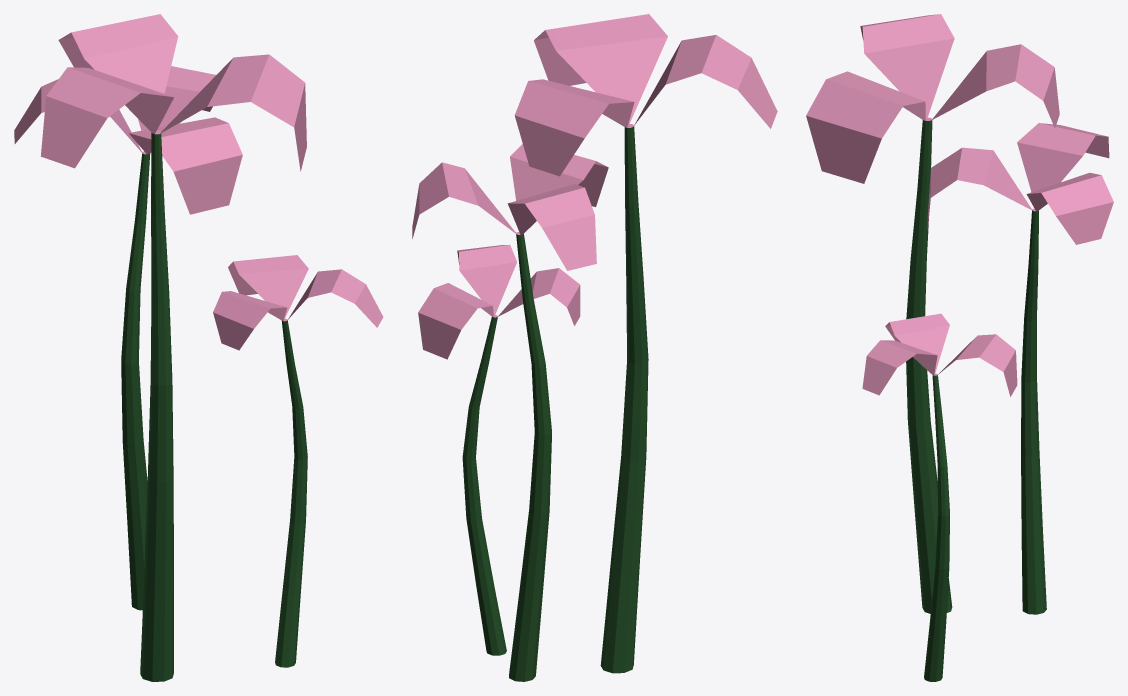
File: Plant_2a.fbx
3 renders of one model, left to right at view 1: azimuth 30°, elevation 25°; view 2: azimuth 150°, elevation 25°; view 3: azimuth 270°, elevation 25°, orthographic. The views are drawn at different scales.
Parts seen in each view (by area): view 1: Circle.002; view 2: Circle.002; view 3: Circle.002.
Boxes of the visible parts, x1,y1,x2,y2 form: Circle.002: [14, 14, 383, 681]; Circle.002: [412, 14, 777, 681]; Circle.002: [806, 14, 1113, 681].
Size of the model in its own units: 79.42 by 148 by 72.38.
